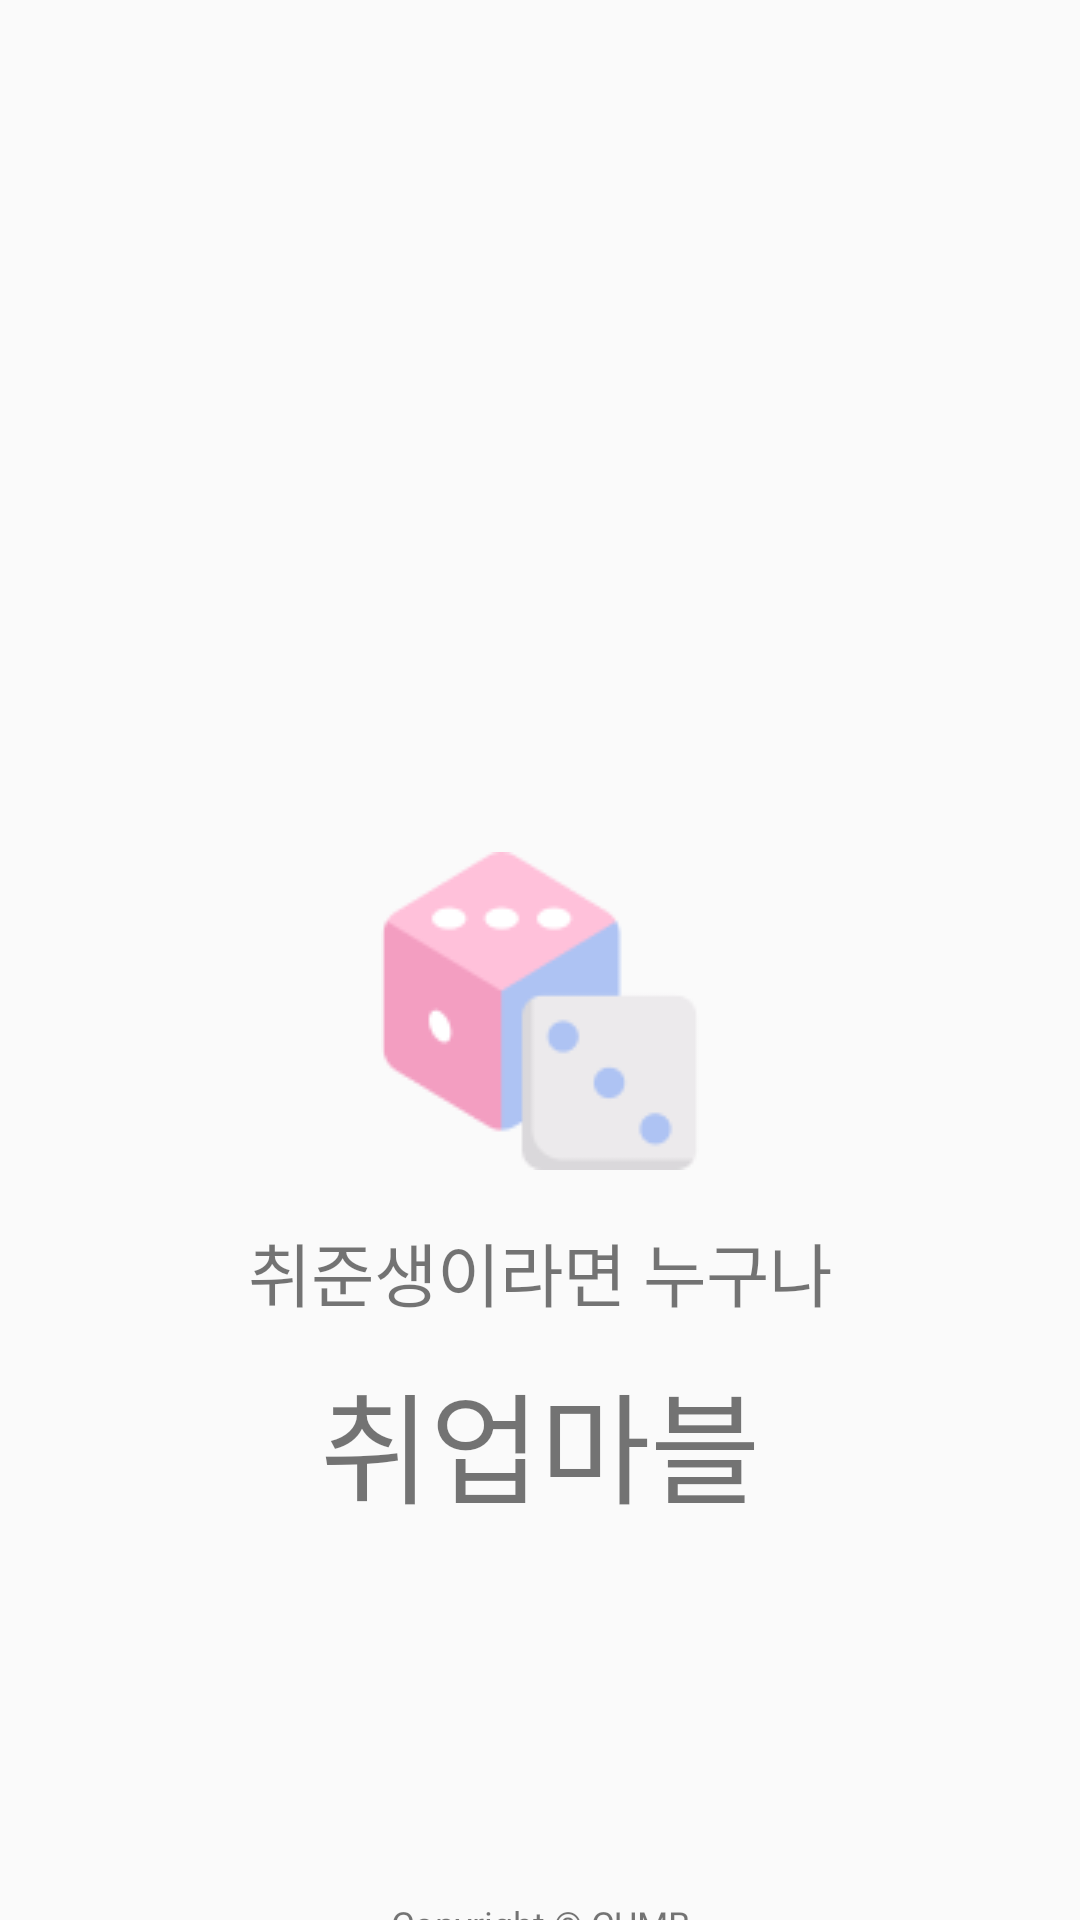

Screen size 1080×1920. Icon name, then its center in pixels as [x,y]:
dice: [538,1011]
